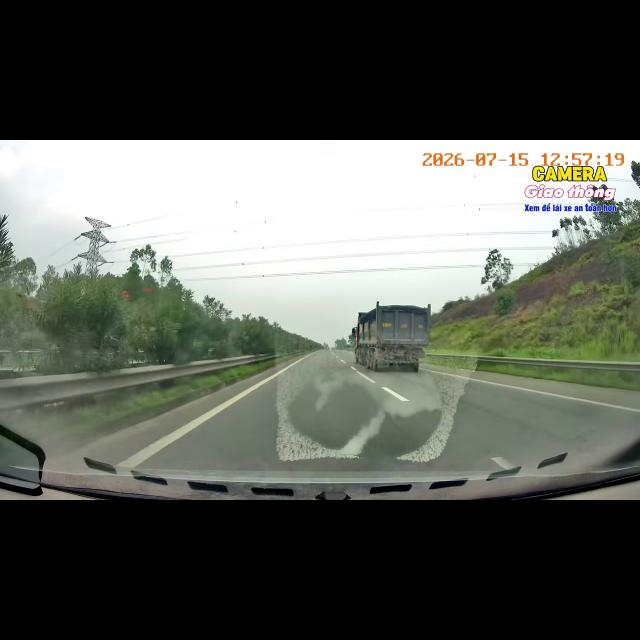truck: (352, 302, 430, 371)
